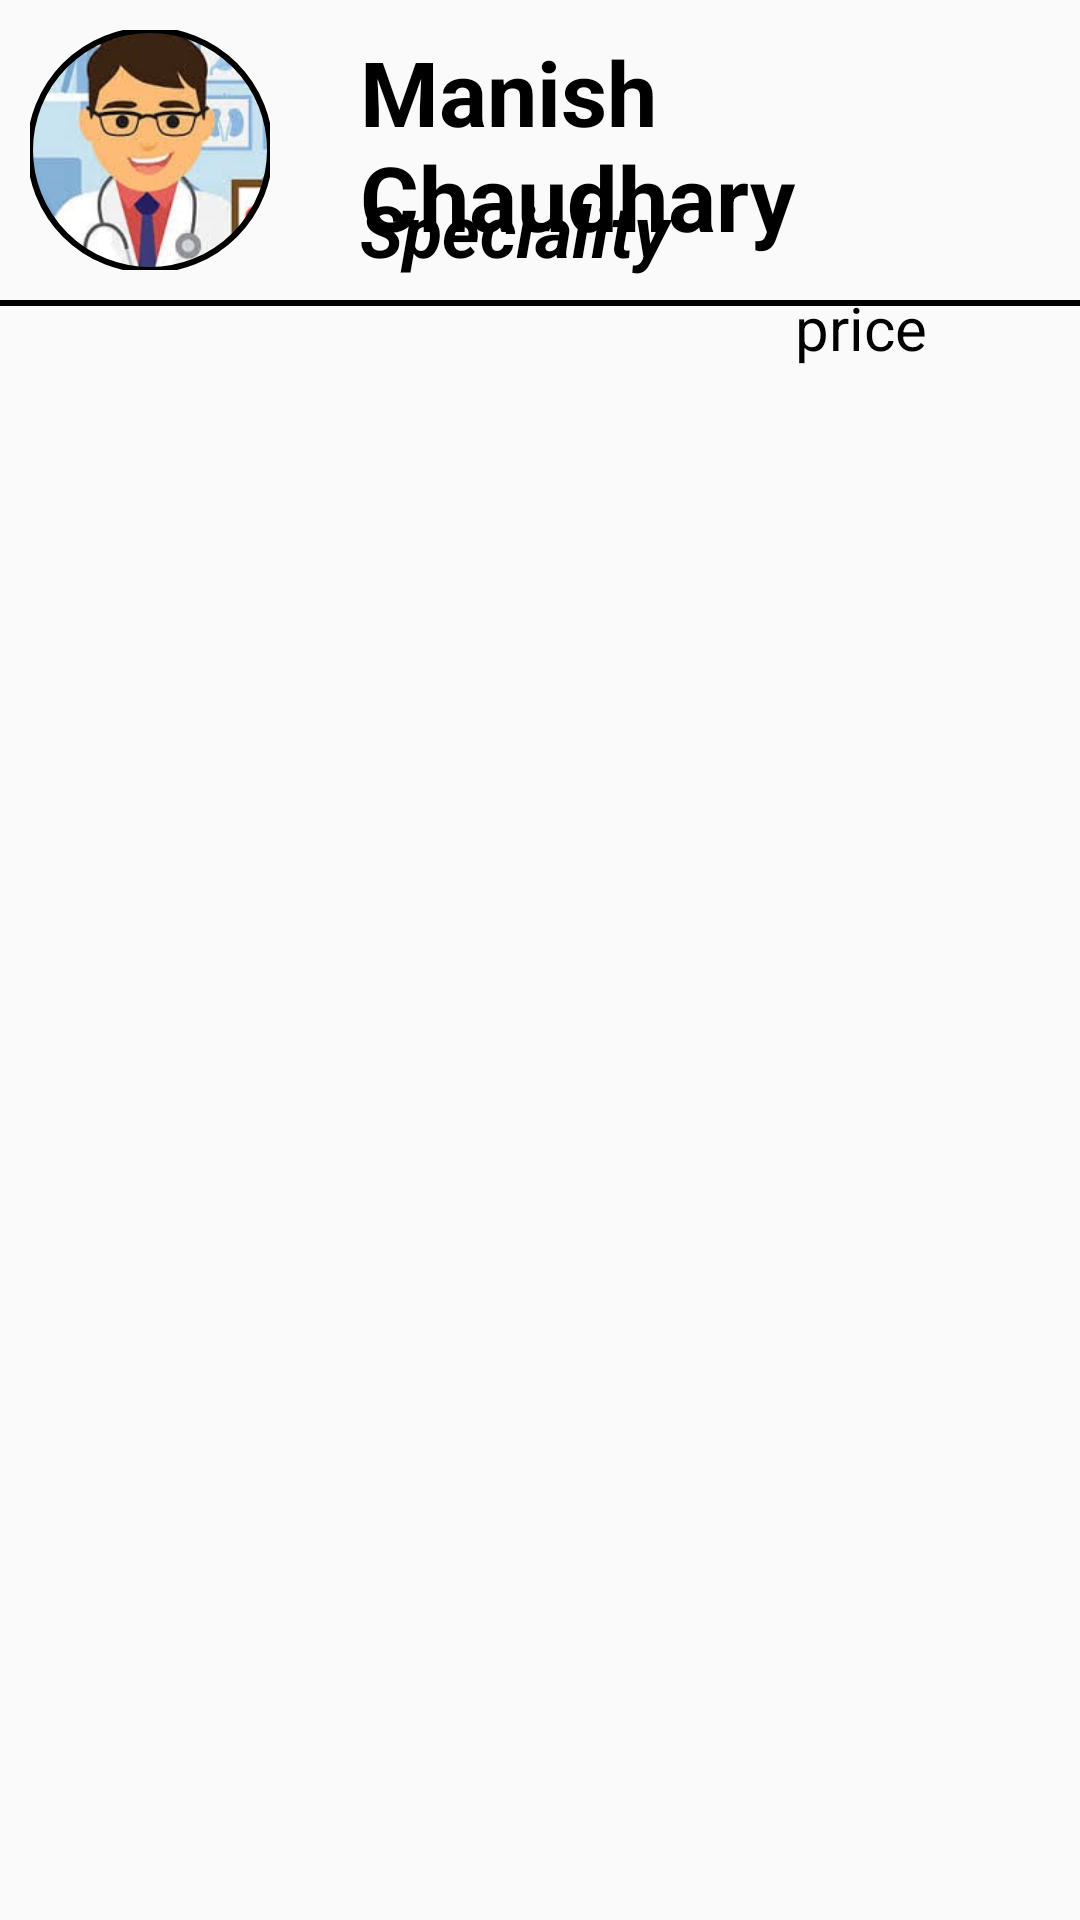

Screen size 1080×1920. Icon name, then its box in pixels as (x1, y1, x2, y2):
doc: (30, 30, 270, 270)
